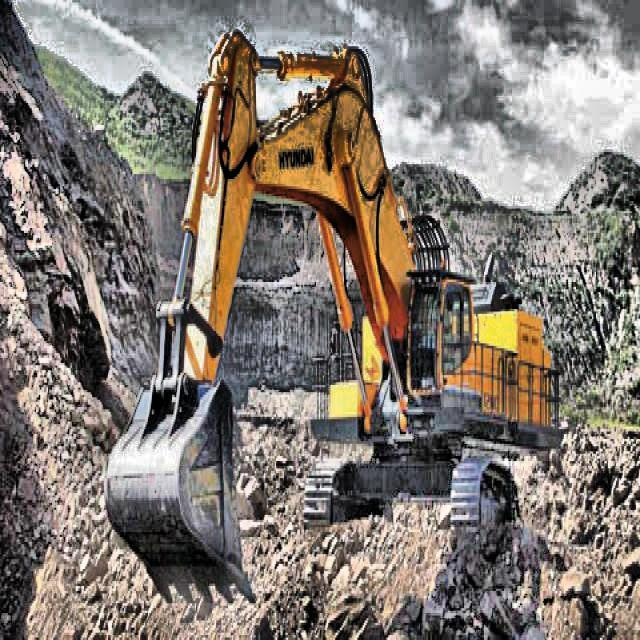bull_dozer/loader/grader: (102, 24, 564, 610)
person: (422, 306, 455, 355)
